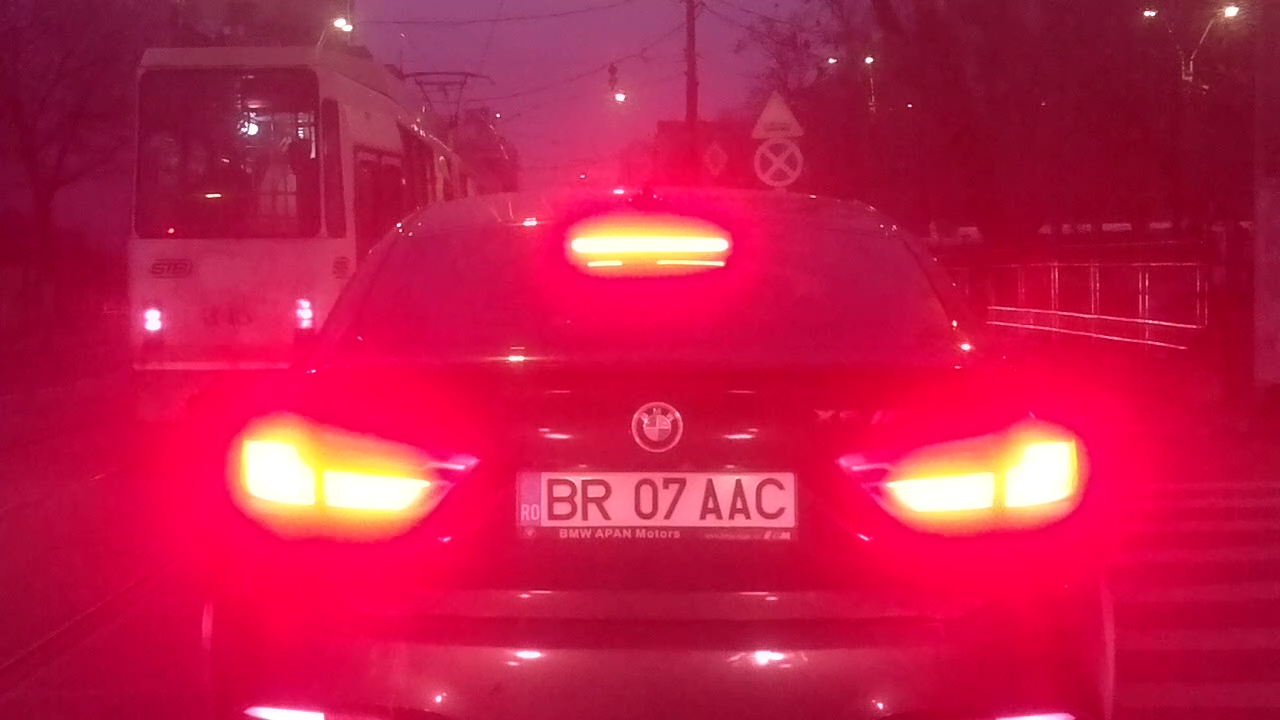license-plate: (506, 459, 807, 537)
